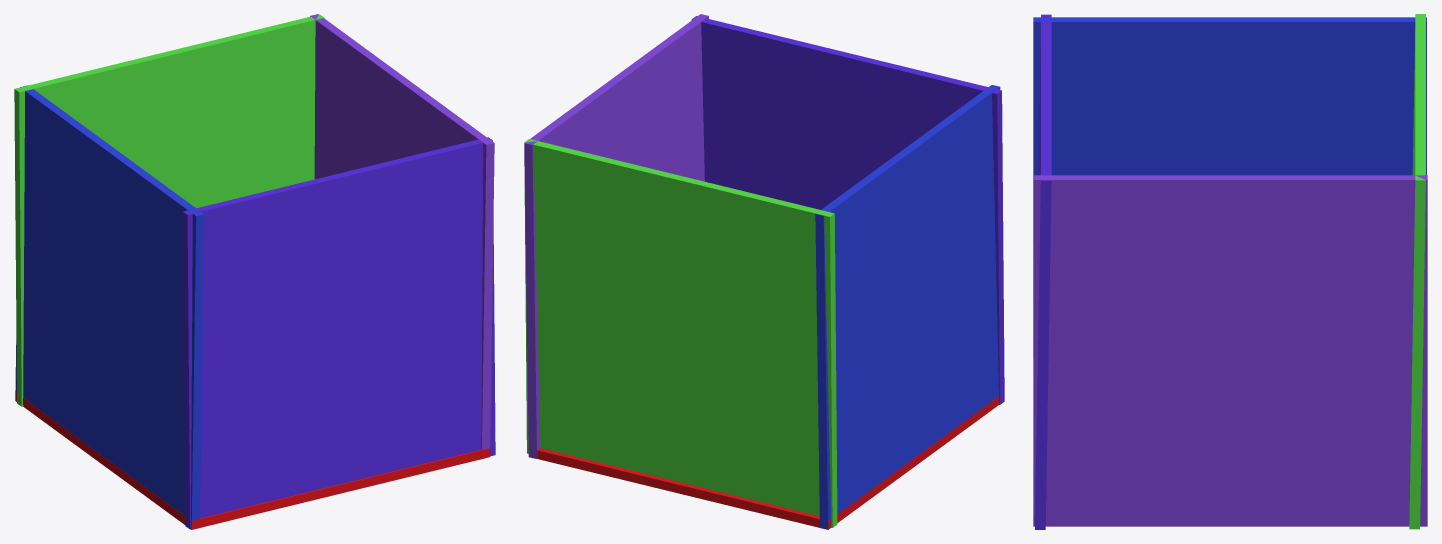
File: second.glb
3 views of the same model, side by side, from view 1: azimuth 30°, elevation 25°; view 2: azimuth 150°, elevation 25°; view 3: azimuth 270°, elevation 25° (orthographic). The views are drawn at different scales.
Parts seen in each view (by area): view 1: Cube.003; view 2: Cube.003; view 3: Cube.003.
Boxes of the visible parts, left/top/right/bottom form: Cube.003: left=14, top=14, right=495, bottom=529; Cube.003: left=524, top=14, right=1004, bottom=529; Cube.003: left=1033, top=14, right=1427, bottom=529.
Bounding box in the file's own units: 369 × 360 × 369.
